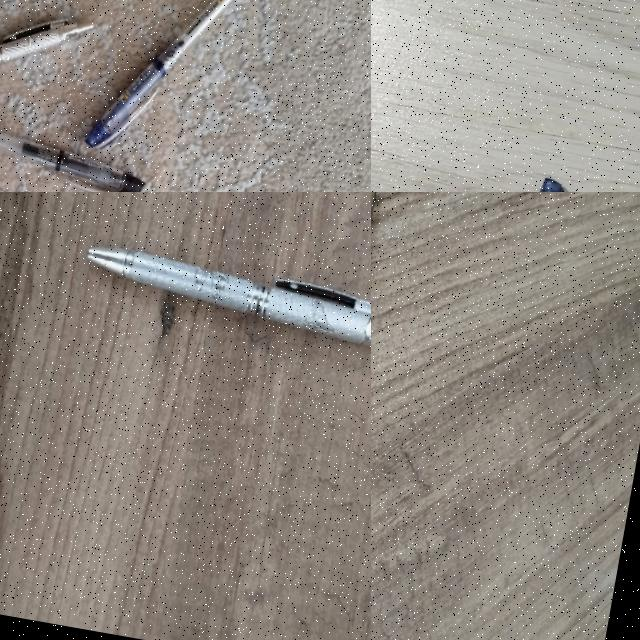pen: (84, 0, 249, 170), (0, 115, 147, 192)
pencil: (371, 192, 376, 213)
signature pen: (88, 248, 370, 345), (0, 0, 90, 123)
